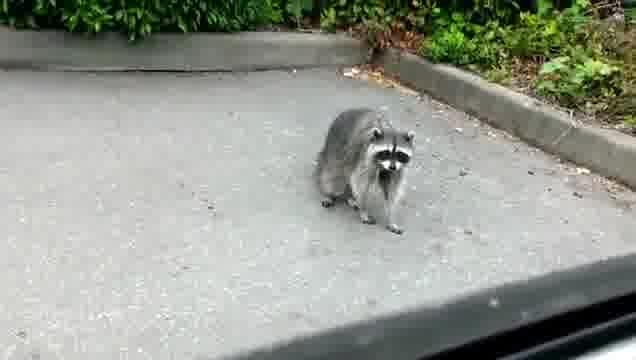raccoon: (308, 99, 419, 236)
